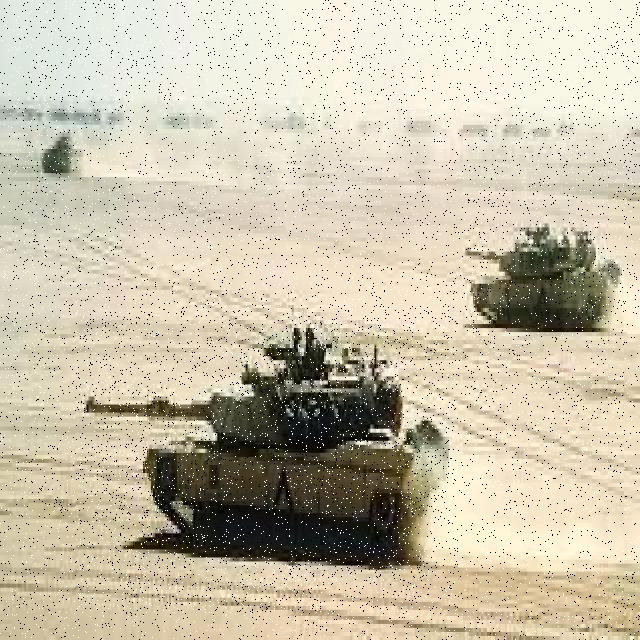MIL_MBT: (76, 306, 457, 614), (456, 155, 627, 407)
